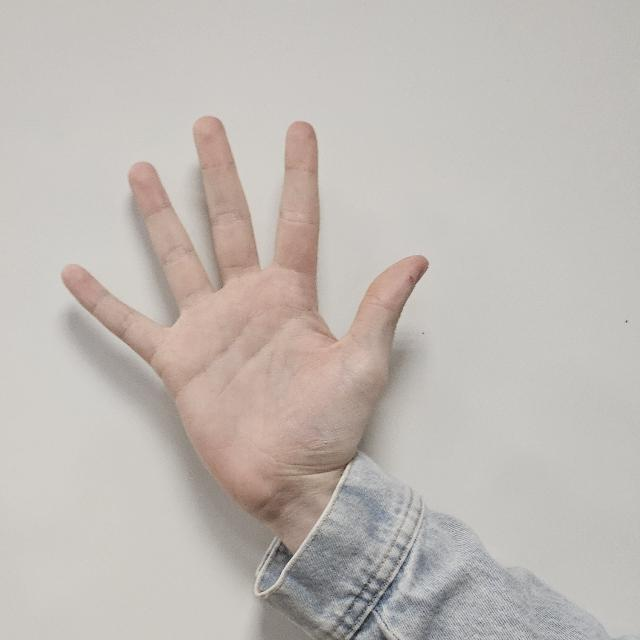X: (63, 112, 430, 504)
